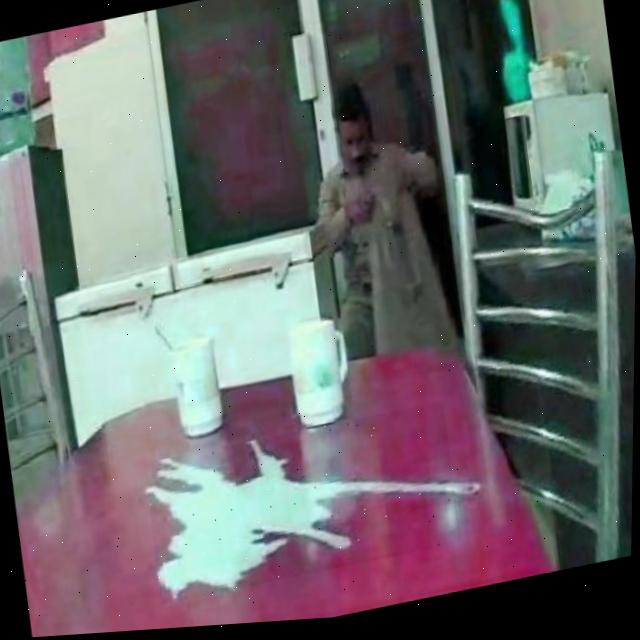spillage: (150, 444, 457, 601)
